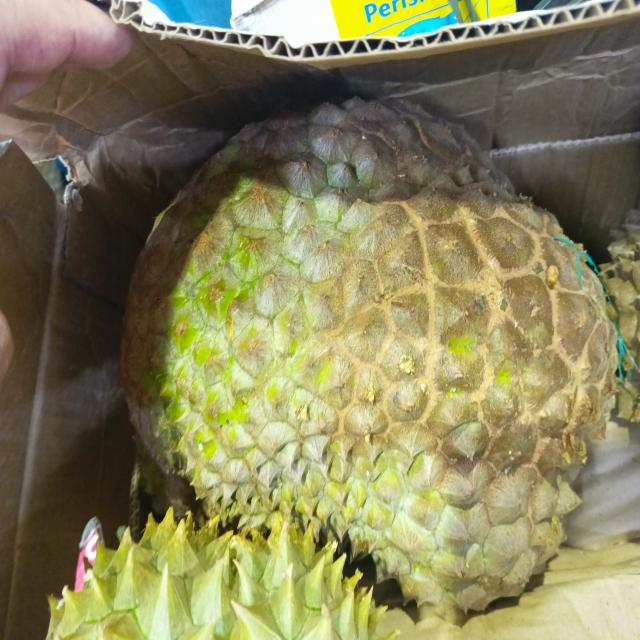mature: (109, 89, 624, 615), (40, 498, 344, 638)
